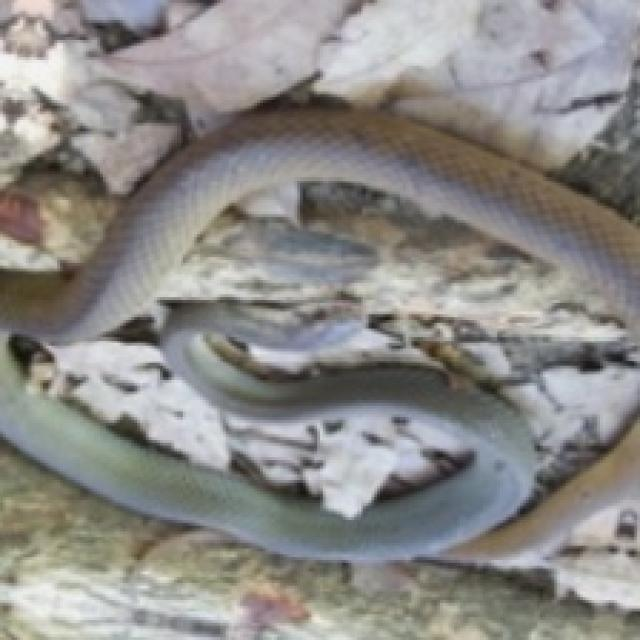reddish rat snake: (0, 109, 637, 560), (446, 420, 637, 563)
